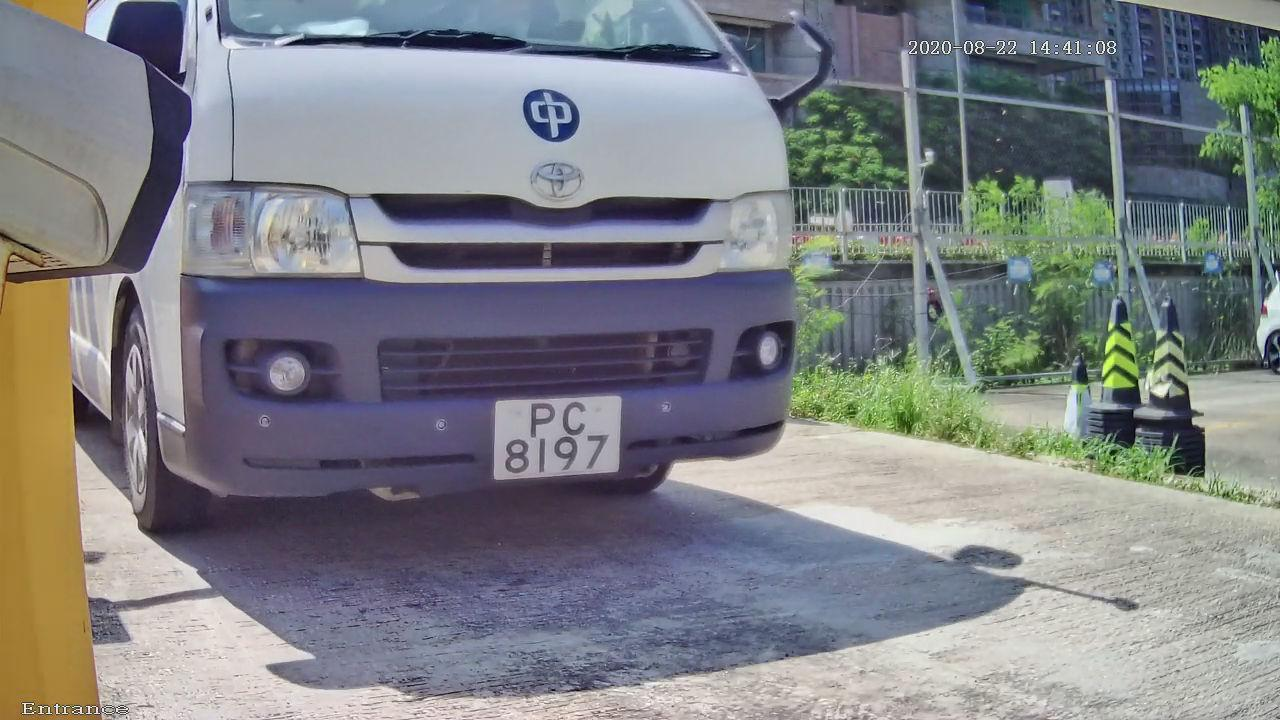License Plate: (481, 393, 629, 486)
